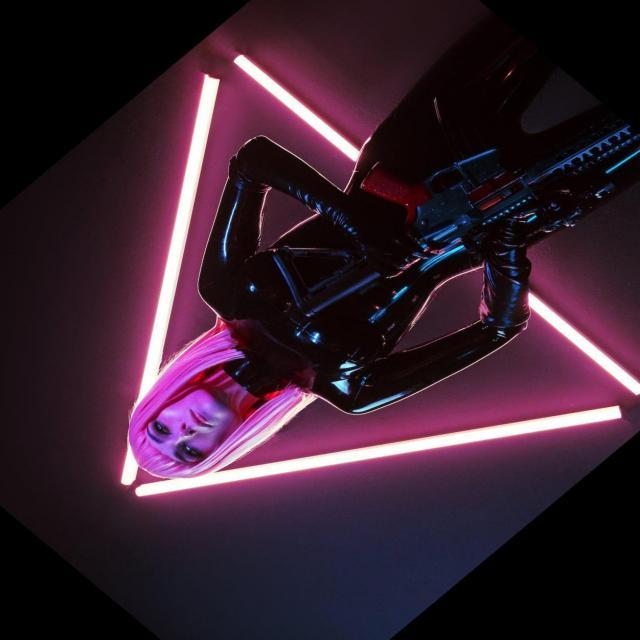weapon: (215, 115, 640, 322)
